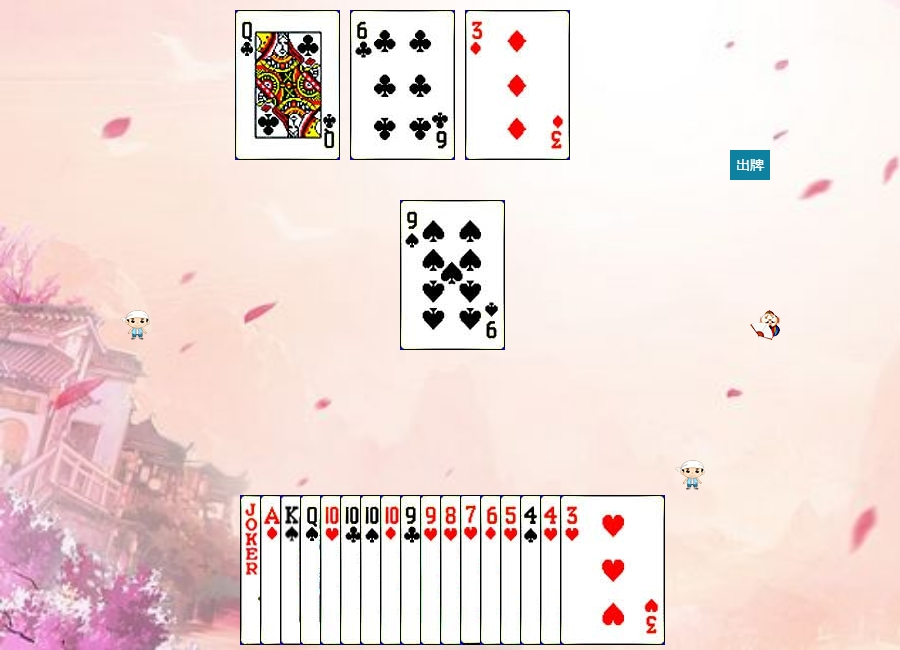10~1: (380, 495, 485, 645)
10~2: (340, 495, 445, 645)
10~3: (320, 495, 425, 645)
10~4: (360, 495, 465, 645)
12~2: (235, 10, 340, 160)
12~4: (300, 495, 405, 645)
13~4: (280, 495, 385, 645)
14~1: (260, 495, 365, 645)
18~4: (240, 495, 345, 645)
3~1: (465, 10, 570, 160)
3~3: (560, 495, 665, 645)
4~3: (540, 495, 645, 645)
4~4: (520, 495, 625, 645)
5~3: (500, 495, 605, 645)
6~1: (480, 495, 585, 645)
6~2: (350, 10, 455, 160)
7~3: (460, 495, 565, 645)
8~3: (440, 495, 545, 645)
9~2: (400, 495, 505, 645)
9~3: (420, 495, 525, 645)
9~4: (400, 200, 505, 350)
